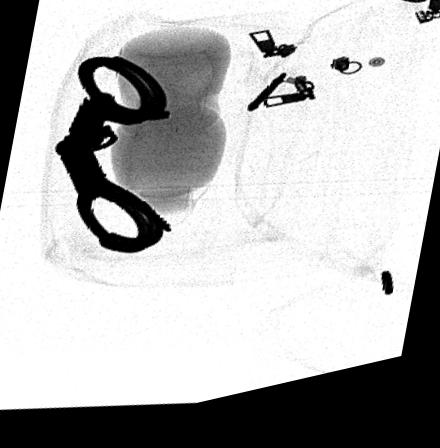HandCuffs: (54, 59, 171, 258)
